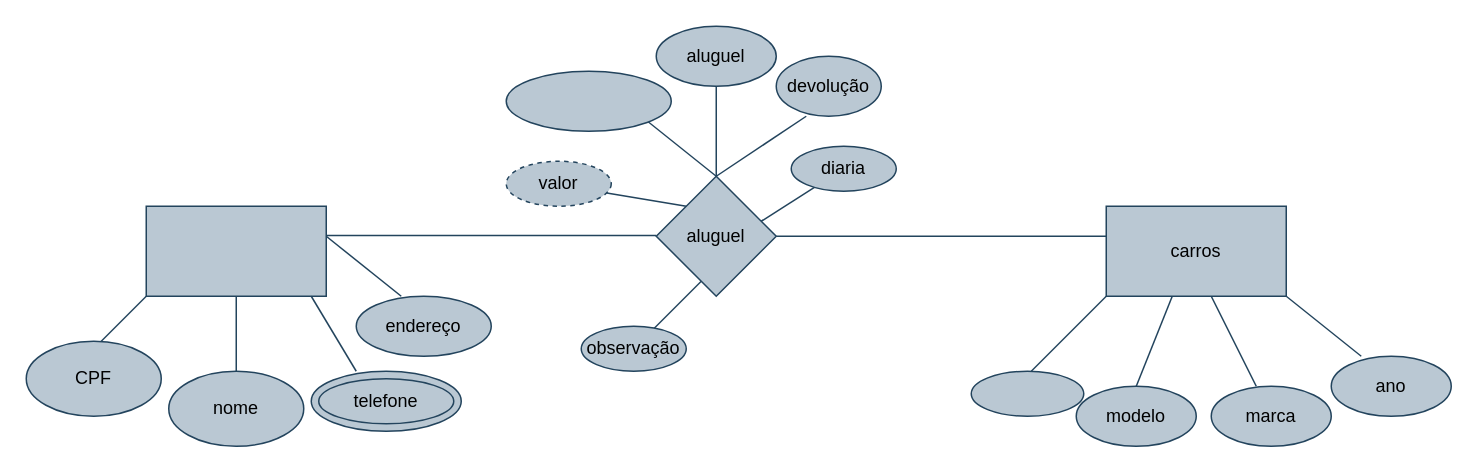
This 1478x473 diagram has some shape labels left out. Here are the shapes that lost their labels. From the top down, the centre of each, then its label:
At (588,100): "id_manutenção".
At (235,250): "clientes".
At (1027,393): "placa".
